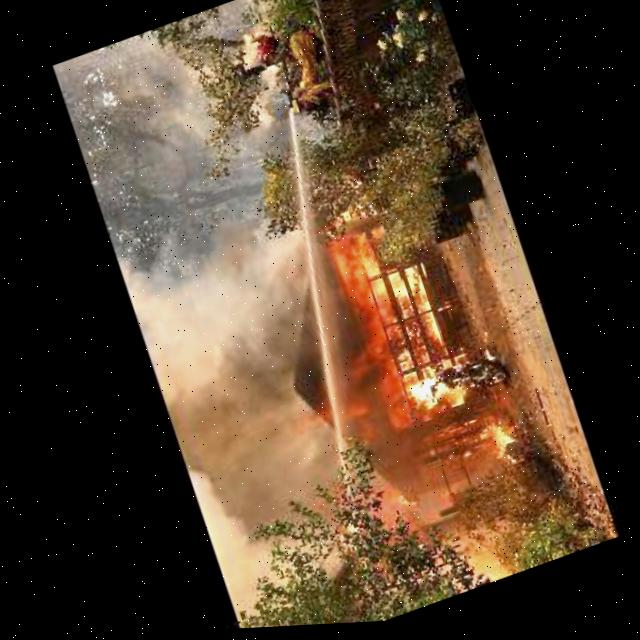Fire: (281, 182, 524, 508)
Smoke: (111, 220, 382, 562)
